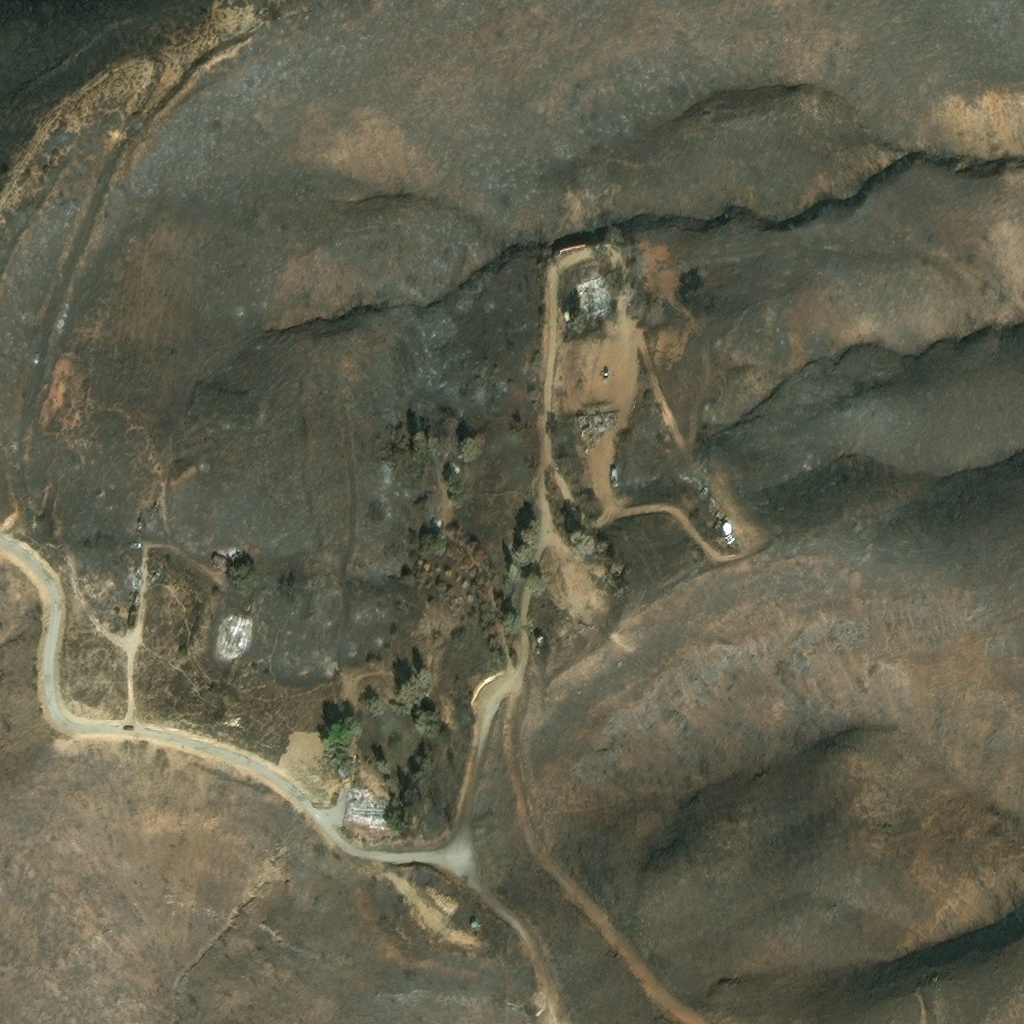0 no-damage: (211, 554, 229, 571), (229, 551, 245, 563), (718, 524, 732, 537), (610, 468, 620, 486), (469, 924, 479, 936), (561, 313, 570, 323), (32, 354, 40, 364)
2 major-damage: (129, 610, 139, 625), (724, 535, 735, 548)
3 destroyed: (215, 608, 251, 659), (346, 785, 387, 829), (581, 271, 614, 315), (568, 589, 586, 614), (576, 414, 593, 436), (432, 513, 443, 530), (148, 571, 161, 584), (596, 412, 607, 426), (132, 568, 140, 586), (698, 485, 710, 497), (447, 466, 458, 477), (692, 473, 702, 483), (133, 540, 143, 548), (535, 639, 543, 648), (134, 593, 140, 604), (457, 874, 463, 881)
